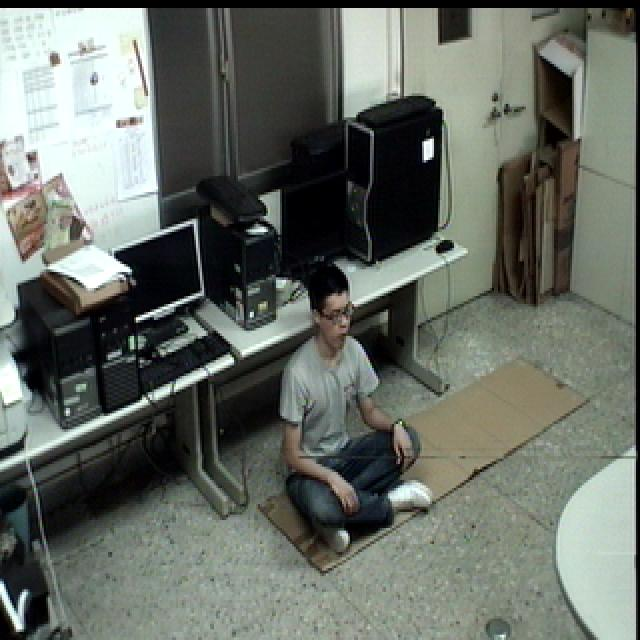sit: (272, 261, 438, 553)
